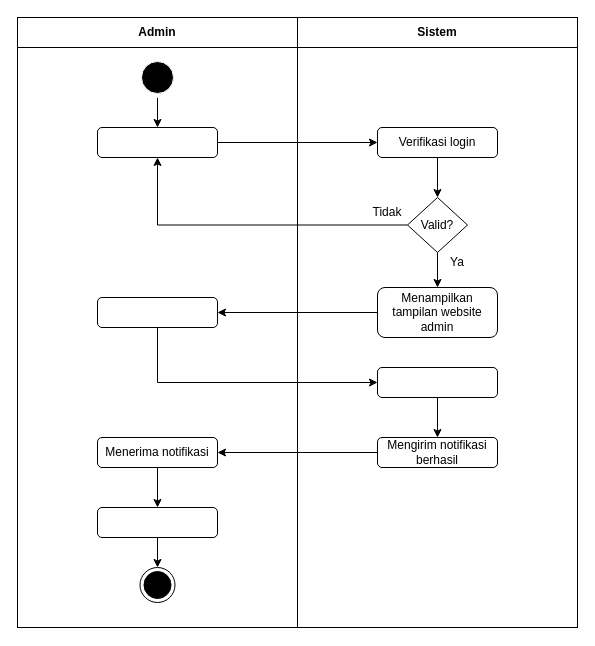
This 595x646 diagram has some shape labels left out. The centre of each missing label's shape, as x and y in pixels:
"Login" goes at [157,142].
"Logout" goes at [157,522].
"Mengelola materi" goes at [157,312].
"Menyimpan ke database" goes at [437,382].
